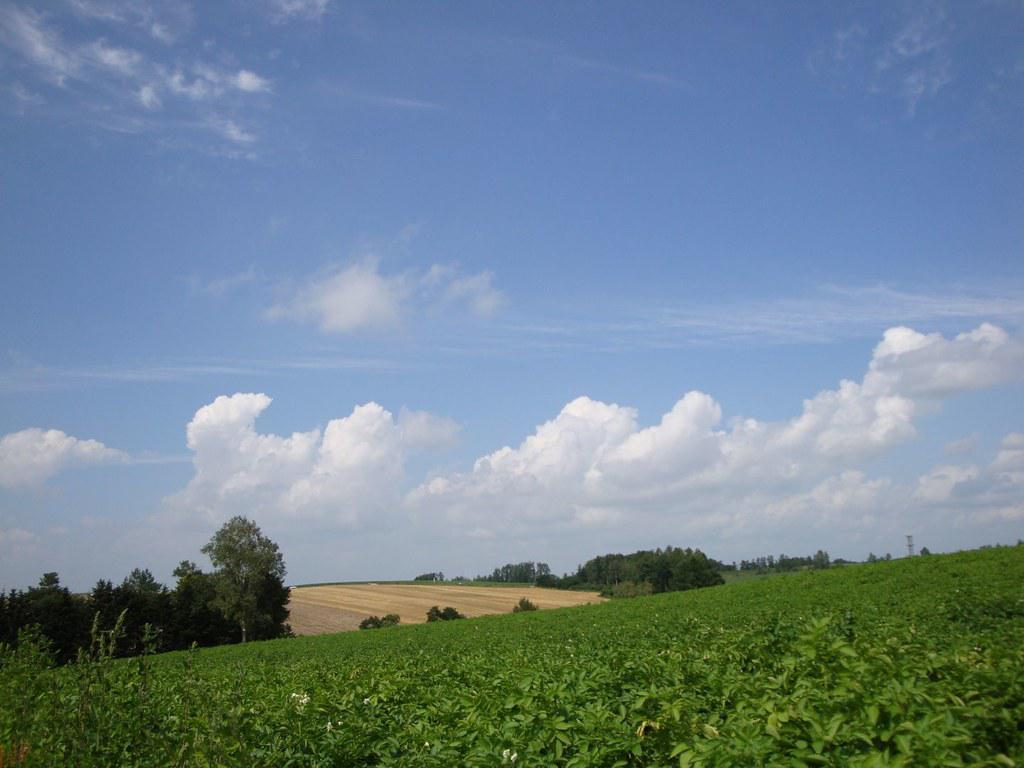power_tower: (905, 530, 917, 555)
